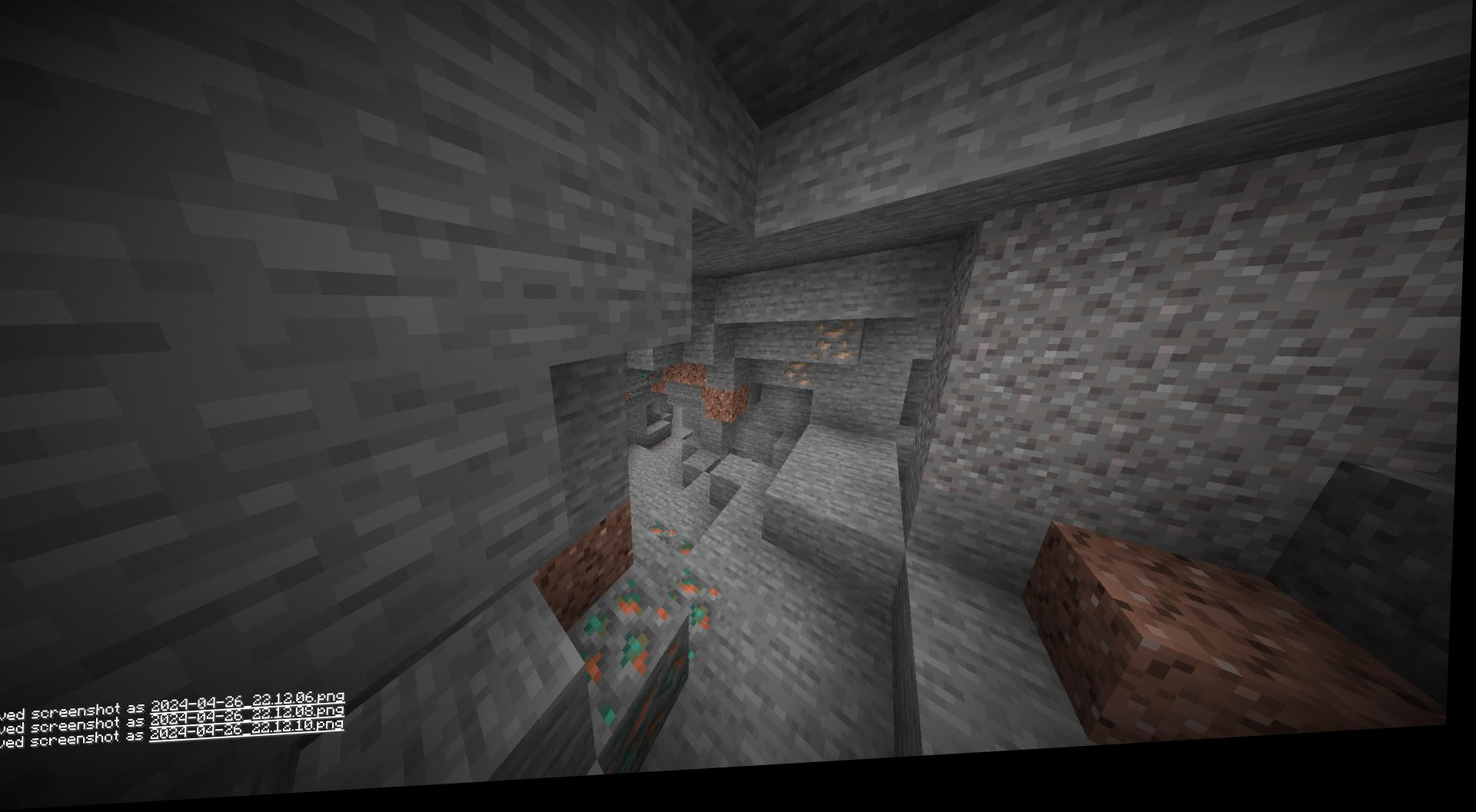iron ore: (813, 326, 866, 378), (783, 366, 816, 402)
